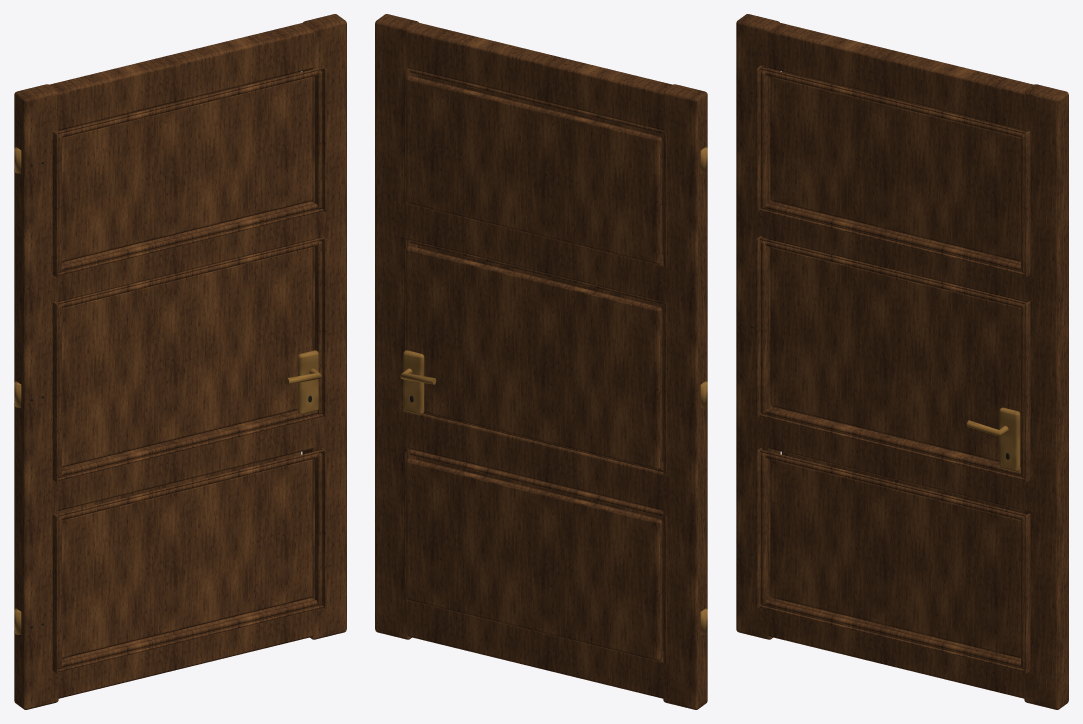
Rendered from PanelDoor.fbx.
The picture shows the model from 3 angles, left to right: view 1: azimuth 30°, elevation 25°; view 2: azimuth 150°, elevation 25°; view 3: azimuth 330°, elevation 25°; orthographic projection.
Parts seen in each view (by area): view 1: PanelDoor_SmokedOak, PanelDoor_Brass; view 2: PanelDoor_SmokedOak, PanelDoor_Brass; view 3: PanelDoor_SmokedOak, PanelDoor_Brass.
Boxes of the visible parts, x1=… form: PanelDoor_SmokedOak: x1=14, y1=14, x2=346, y2=709; PanelDoor_Brass: x1=14, y1=147, x2=321, y2=634; PanelDoor_SmokedOak: x1=375, y1=14, x2=707, y2=709; PanelDoor_Brass: x1=400, y1=147, x2=707, y2=634; PanelDoor_SmokedOak: x1=736, y1=14, x2=1068, y2=709; PanelDoor_Brass: x1=966, y1=407, x2=1020, y2=471.
Bounding box in the file's own units: 148 × 264 × 34.79.
